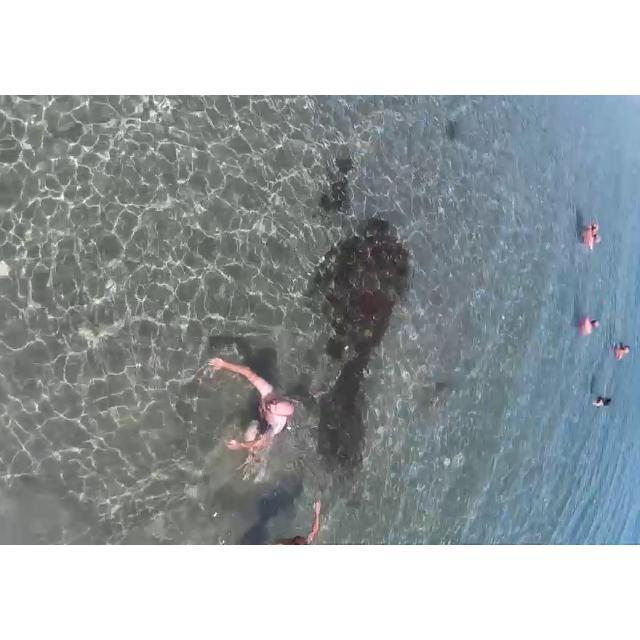human: (209, 329, 299, 469), (574, 306, 598, 346), (574, 219, 603, 249), (590, 392, 623, 417), (613, 337, 637, 361)
